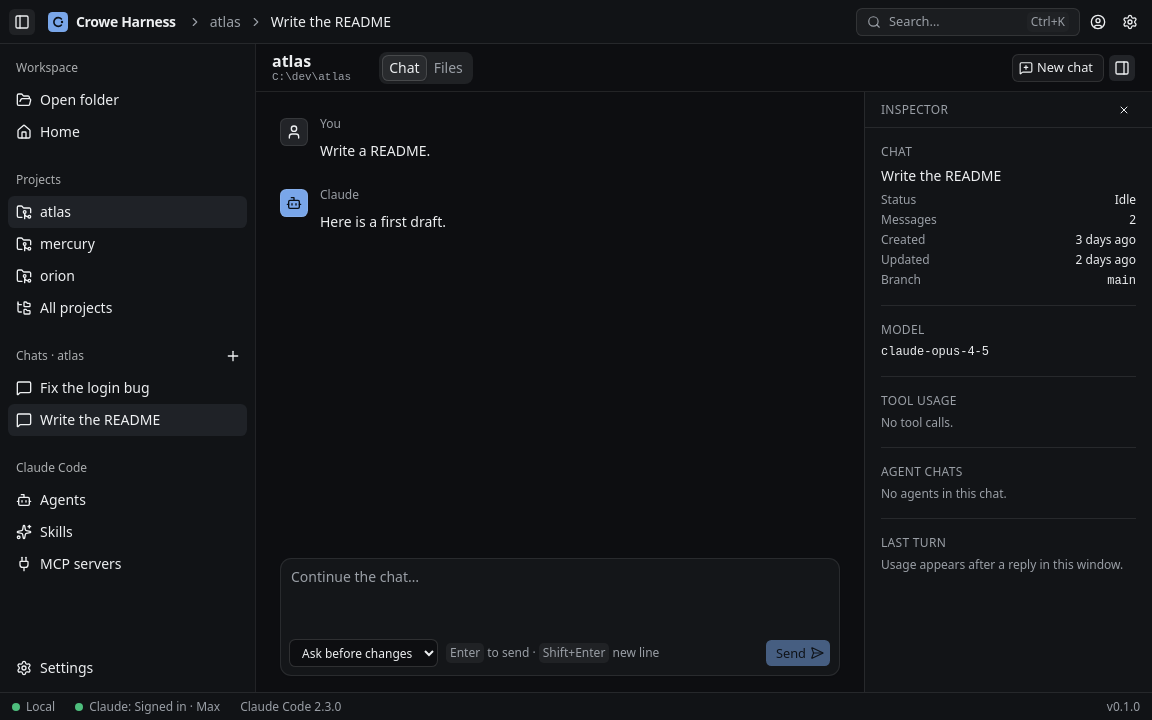
FilesView › lists the project root lazily, folders collapsed and nothing selected
Click the tab "Files": point(448, 68) [427,54,470,80]
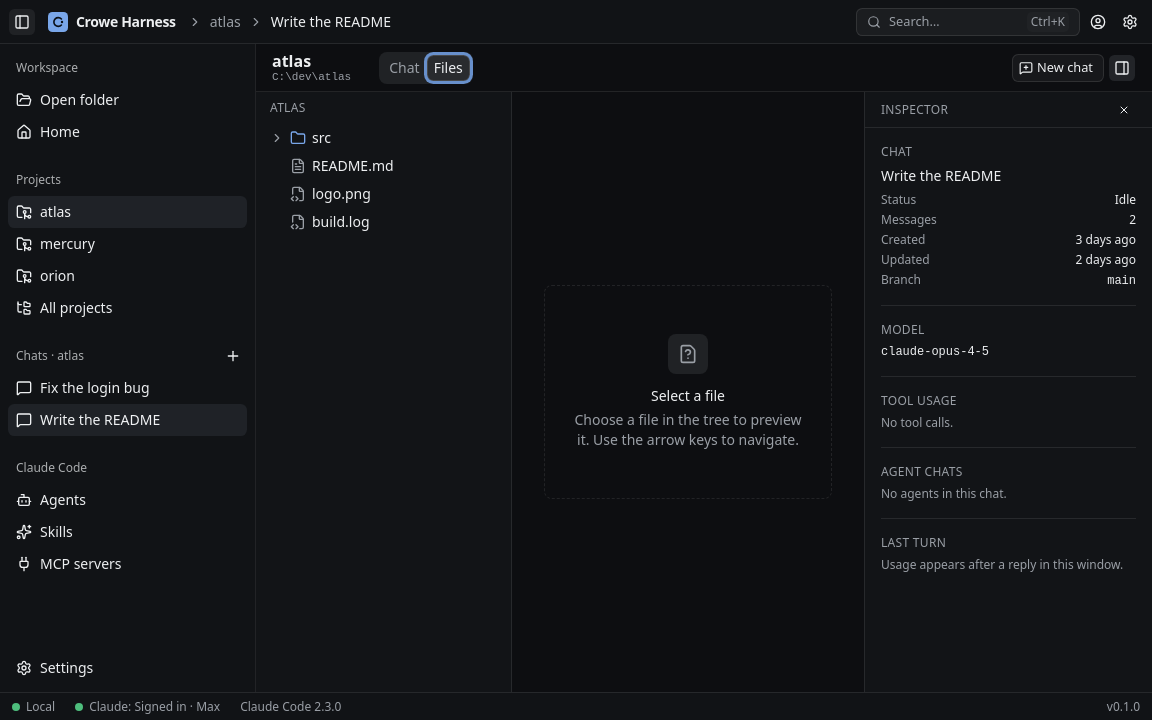
Expected: the heading "Select a file" is shown, [651,386,725,405]
